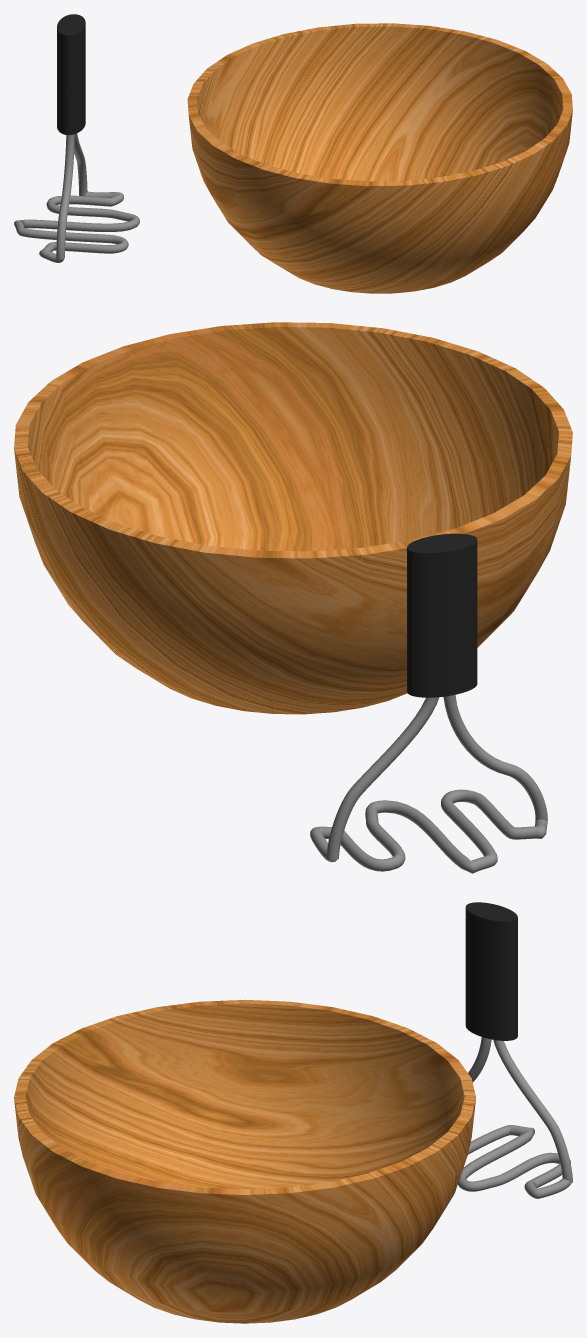
The model's file is mixing_bowl.glb.
3 renders of one model, top to bottom at view 1: azimuth 30°, elevation 25°; view 2: azimuth 150°, elevation 25°; view 3: azimuth 270°, elevation 25°, orthographic. The views are drawn at different scales.
Parts seen in each view (by area): view 1: Sphere, BézierCurve, Cylinder; view 2: Sphere, Cylinder, BézierCurve; view 3: Sphere, Cylinder, BézierCurve.
Part boxes in pixels (bbox=[...]): Sphere: bbox=[187, 23, 572, 293]; BézierCurve: bbox=[14, 133, 139, 262]; Cylinder: bbox=[57, 14, 85, 134]; Sphere: bbox=[14, 322, 572, 714]; Cylinder: bbox=[407, 533, 477, 697]; BézierCurve: bbox=[310, 695, 547, 873]; Sphere: bbox=[14, 999, 475, 1323]; Cylinder: bbox=[465, 902, 517, 1040]; BézierCurve: bbox=[458, 1037, 572, 1198].
Size of the model in its own units: 1.31 by 0.6162 by 1.25.
3 materials, 3 textured.
